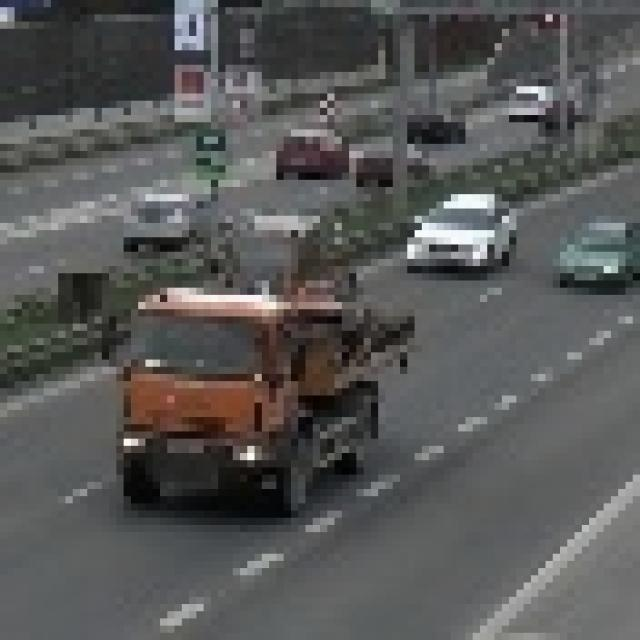truck: (110, 245, 379, 519)
